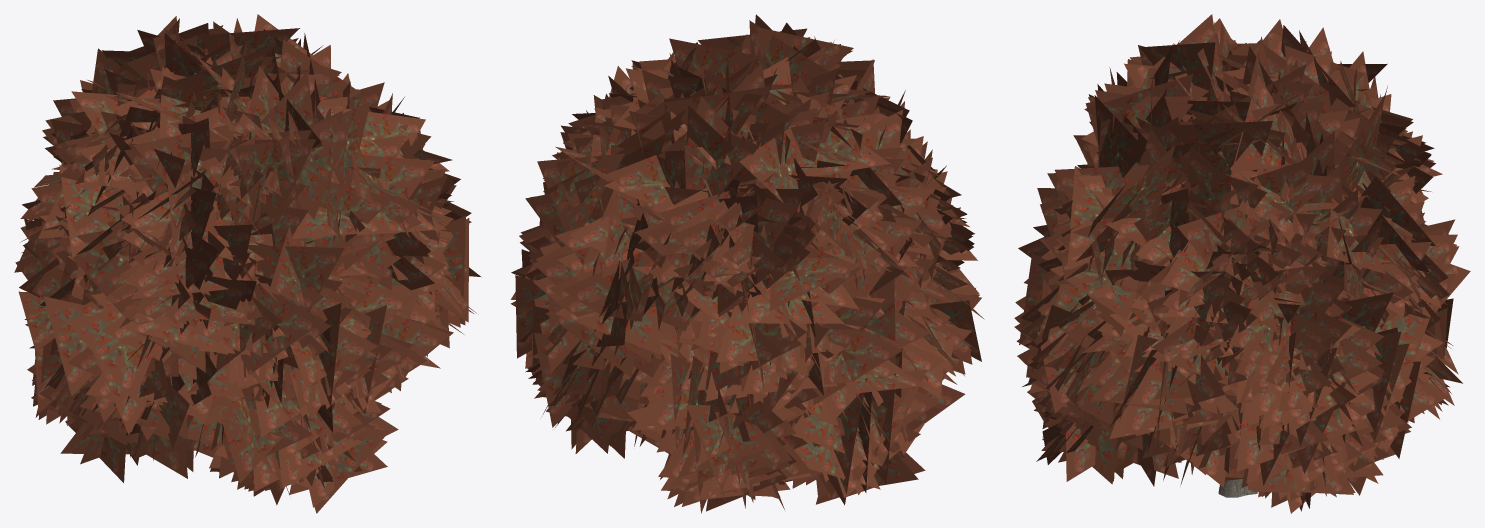
The model's file is Quercus_Rubra_Autumn_Adult.glb.
3 views of the same model, side by side, from view 1: azimuth 30°, elevation 25°; view 2: azimuth 150°, elevation 25°; view 3: azimuth 270°, elevation 25° (orthographic). The views are drawn at different scales.
Visible parts, largest first — view 1: Quercus_Rubra_Autumn_Adult__LOD3; view 2: Quercus_Rubra_Autumn_Adult__LOD3; view 3: Quercus_Rubra_Autumn_Adult__LOD3.
Part boxes in pixels (left/top/right/bottom): Quercus_Rubra_Autumn_Adult__LOD3: left=14, top=14, right=480, bottom=513; Quercus_Rubra_Autumn_Adult__LOD3: left=510, top=14, right=984, bottom=513; Quercus_Rubra_Autumn_Adult__LOD3: left=1014, top=14, right=1470, bottom=513.
Bounding box in the file's own units: 20.24 × 21.15 × 19.45.
Materials: 2 (2 with a texture image).
